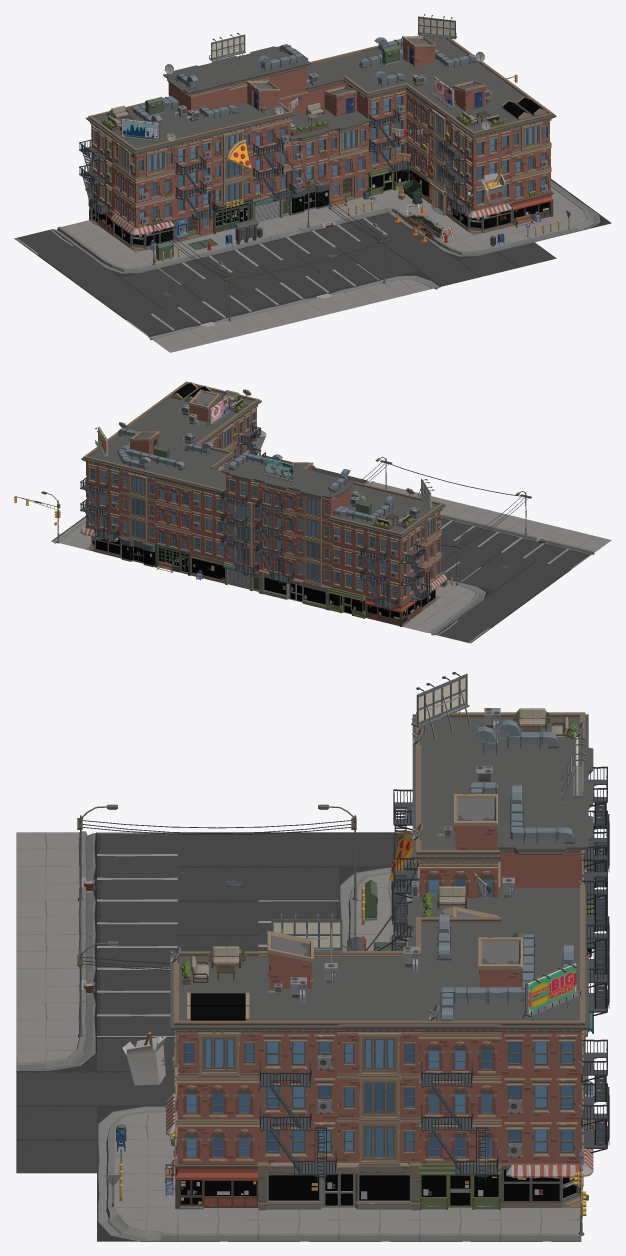
The model's file is scenesmall2.glb.
3 renders of one model, top to bottom at view 1: azimuth 30°, elevation 25°; view 2: azimuth 150°, elevation 25°; view 3: azimuth 270°, elevation 25°, orthographic. The views are drawn at different scales.
Parts seen in each view (by area): view 1: SM_Bld_Apartment_Stack_38, SM_Bld_Apartment_Stack_50, SM_Bld_Apartment_Stack_37, SM_Env_Road_ParkingLines_18, SM_Env_Road_ParkingLines_20, SM_Env_Road_ParkingLines_16, SM_Env_Road_ParkingLines_19, SM_Env_Road_ParkingLines_17, SM_Env_Road_ParkingLines_15, SM_Env_Sidewalk_Construction_01_970, SM_Bld_Apartment_Corner_76, SM_Bld_Apartment_Stack_39 (+105 smaller); view 2: SM_Bld_Apartment_Stack_44, SM_Bld_Apartment_Stack_49, SM_Bld_Apartment_Stack_46, SM_Bld_Apartment_Stack_51, SM_Bld_Apartment_Stack_45, SM_Bld_Apartment_Stack_48, SM_Bld_Apartment_Stack_47, SM_Env_Road_ParkingLines_20, SM_Env_Road_ParkingLines_19, SM_Bld_Apartment_Corner_73, SM_Bld_Apartment_20, SM_Bld_Apartment_Roof_Corner_23 (+65 smaller); view 3: SM_Bld_Apartment_Stack_42, SM_Bld_Apartment_Stack_43, SM_Bld_Apartment_Stack_41, SM_Env_Road_ParkingLines_20, SM_Env_Road_ParkingLines_19, SM_Env_Road_ParkingLines_18, SM_Bld_Shop_275, SM_Bld_Apartment_Corner_67, SM_Bld_Apartment_Corner_65, SM_Bld_Apartment_Corner_70, SM_Bld_Apartment_Corner_66, SM_Bld_Apartment_Corner_68 (+89 smaller).
Part boxes in pixels (x1,y1,x2,y2): SM_Bld_Apartment_Stack_38: [346, 84, 406, 171]; SM_Bld_Apartment_Stack_50: [174, 137, 213, 218]; SM_Bld_Apartment_Stack_37: [212, 127, 253, 208]; SM_Env_Road_ParkingLines_18: [280, 263, 379, 298]; SM_Env_Road_ParkingLines_20: [126, 301, 224, 336]; SM_Env_Road_ParkingLines_16: [236, 231, 334, 265]; SM_Env_Road_ParkingLines_19: [203, 282, 302, 317]; SM_Env_Road_ParkingLines_17: [159, 250, 257, 284]; SM_Env_Road_ParkingLines_15: [313, 212, 412, 246]; SM_Env_Sidewalk_Construction_01_970: [391, 202, 472, 245]; SM_Bld_Apartment_Corner_76: [113, 140, 176, 179]; SM_Bld_Apartment_Stack_39: [406, 89, 429, 177]; SM_Bld_Apartment_Stack_44: [119, 470, 156, 544]; SM_Bld_Apartment_Stack_49: [294, 513, 331, 586]; SM_Bld_Apartment_Stack_46: [155, 479, 191, 552]; SM_Bld_Apartment_Stack_51: [331, 522, 365, 595]; SM_Bld_Apartment_Stack_45: [191, 488, 226, 561]; SM_Bld_Apartment_Stack_48: [261, 508, 296, 577]; SM_Bld_Apartment_Stack_47: [225, 496, 261, 569]; SM_Env_Road_ParkingLines_20: [502, 538, 591, 569]; SM_Env_Road_ParkingLines_19: [440, 521, 521, 552]; SM_Bld_Apartment_Corner_73: [365, 525, 421, 560]; SM_Bld_Apartment_20: [294, 484, 352, 521]; SM_Bld_Apartment_Roof_Corner_23: [293, 472, 354, 499]; SM_Bld_Apartment_Stack_42: [337, 1032, 422, 1165]; SM_Bld_Apartment_Stack_43: [418, 1032, 501, 1163]; SM_Bld_Apartment_Stack_41: [258, 1032, 338, 1163]; SM_Env_Road_ParkingLines_20: [97, 832, 177, 900]; SM_Env_Road_ParkingLines_19: [97, 900, 177, 968]; SM_Env_Road_ParkingLines_18: [97, 968, 174, 1036]; SM_Bld_Shop_275: [257, 1162, 420, 1210]; SM_Bld_Apartment_Corner_67: [174, 1031, 261, 1077]; SM_Bld_Apartment_Corner_65: [175, 1093, 259, 1163]; SM_Bld_Apartment_Corner_70: [500, 1030, 584, 1075]; SM_Bld_Apartment_Corner_66: [175, 1067, 259, 1119]; SM_Bld_Apartment_Corner_68: [500, 1090, 584, 1163].
Size of the model in its own units: 65.17 by 19.69 by 36.76.
Materials: 3 (2 with a texture image).
